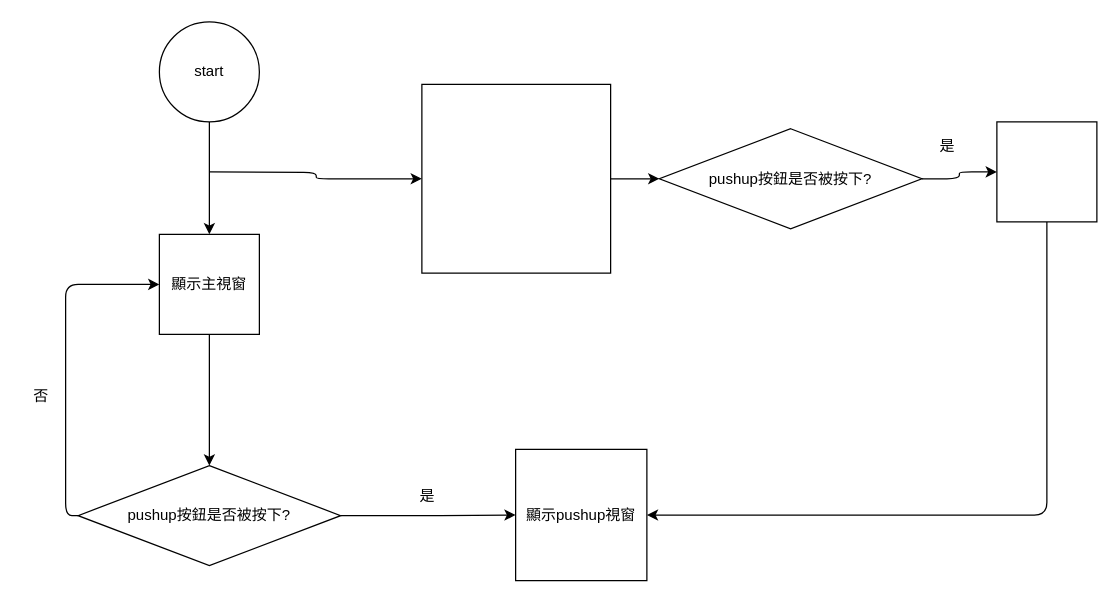
Image size: 1119x603. Some labels were removed from this diagram. The centre of each missing label's shape, as x and y in pixels:
"建立辨識執行緒 (仍未開始辨識並傳送資料)" belongs at (x=516, y=178).
"開始辨識並傳送資料" belongs at (x=1046, y=171).
